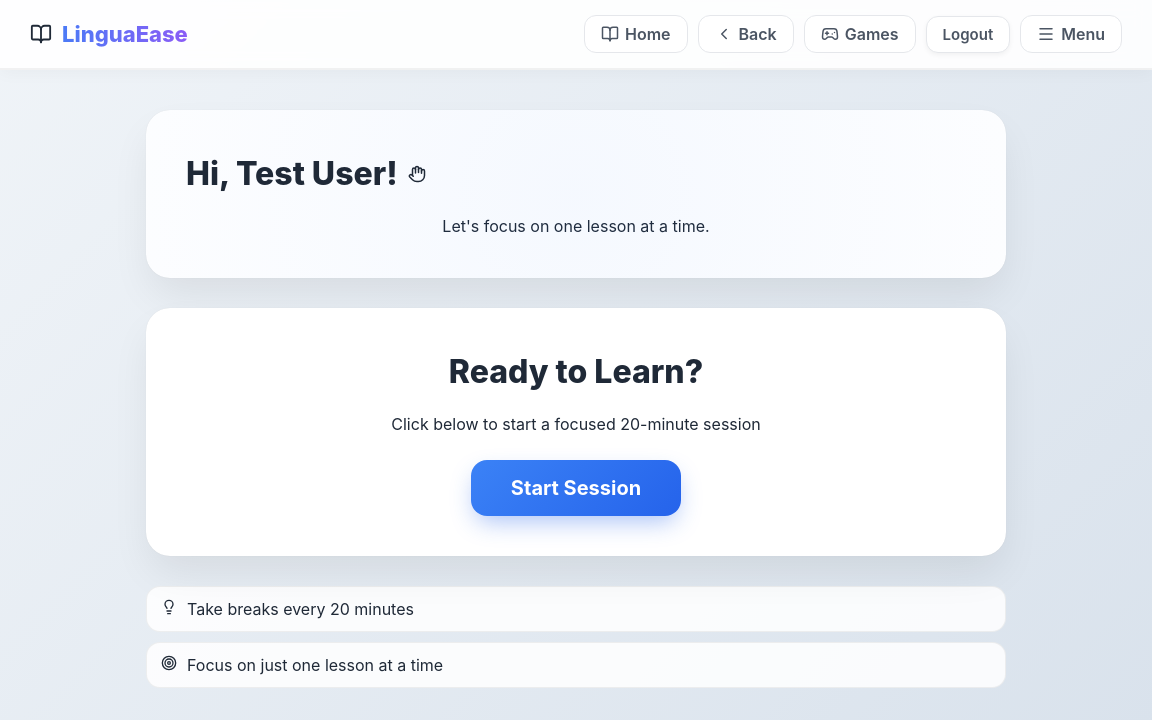
Test case: ADHDView Component - ADHD Learning Features › 1. Session Management › should start session and timer when Start Session is clicked
Click the button "Start Session". click: coordinates (576, 488)
box: [471,460,681,516]
Wait 1000 ms
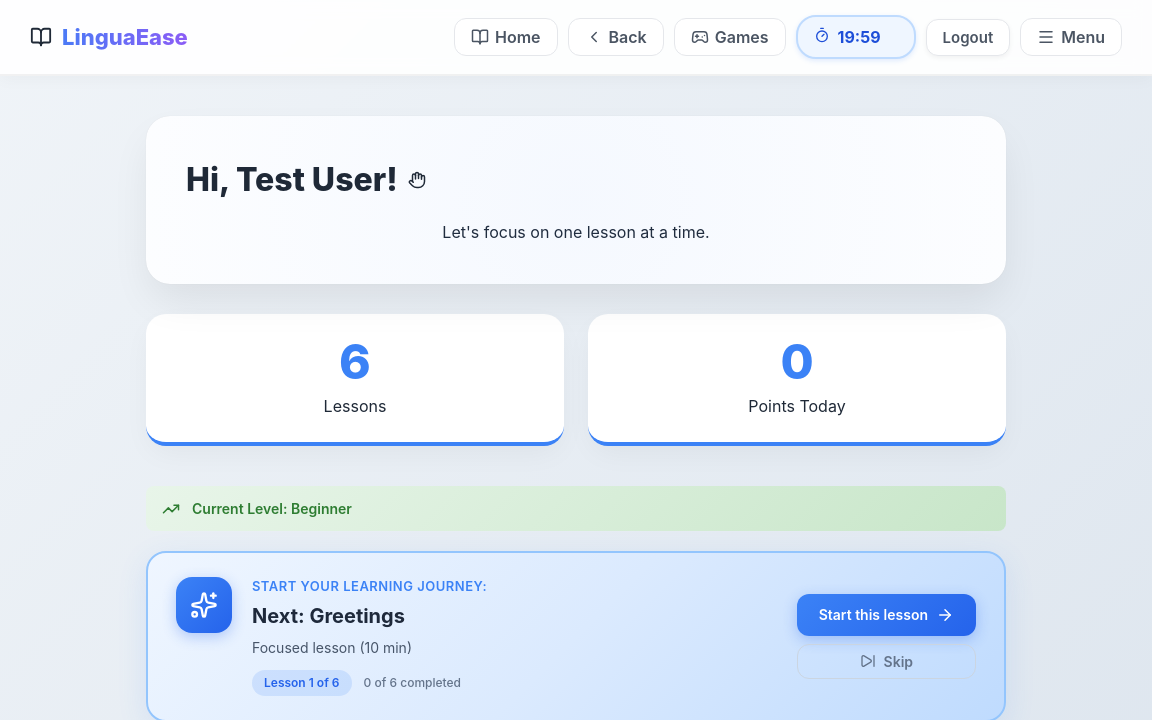
Now the text "19:59" is shown, box [838,25,881,49]
